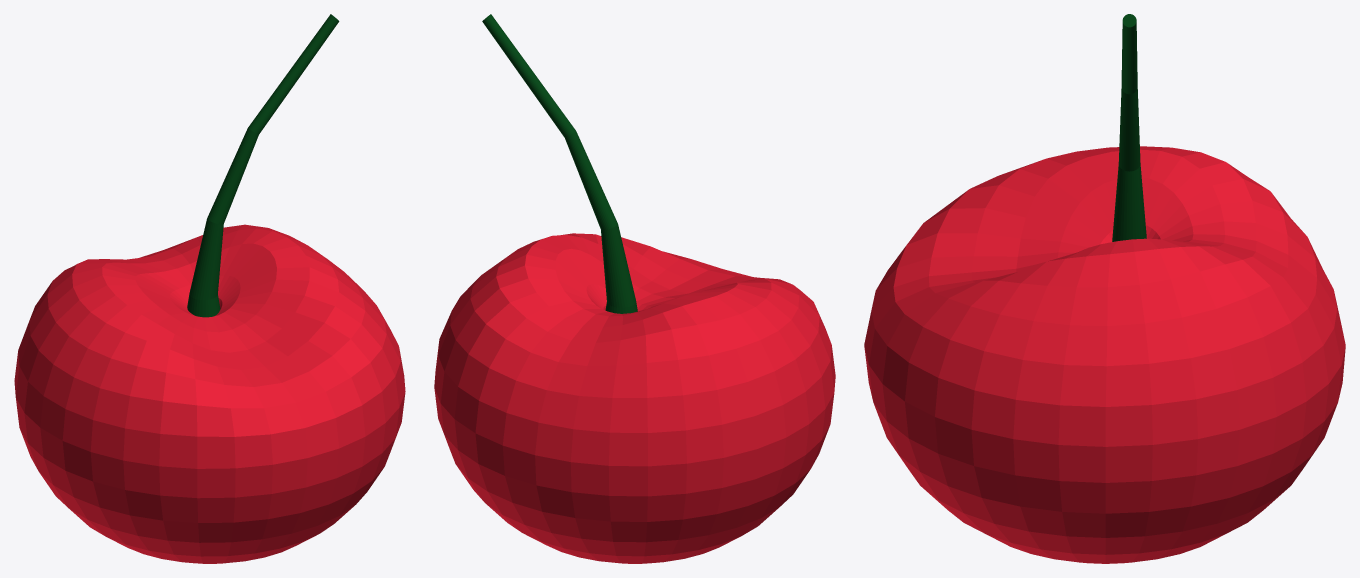
The picture shows the model from 3 angles, left to right: view 1: azimuth 30°, elevation 25°; view 2: azimuth 150°, elevation 25°; view 3: azimuth 270°, elevation 25°; orthographic projection. The views are drawn at different scales.
Visible parts, largest first — view 1: Sphere, Cylinder; view 2: Sphere, Cylinder; view 3: Sphere, Cylinder.
Part boxes in pixels (bbox=[...]): Sphere: bbox=[14, 224, 405, 563]; Cylinder: bbox=[187, 14, 339, 317]; Sphere: bbox=[434, 233, 835, 563]; Cylinder: bbox=[482, 14, 637, 313]; Sphere: bbox=[864, 146, 1345, 563]; Cylinder: bbox=[1112, 14, 1146, 241].
Size of the model in its own units: 20 by 27.62 by 19.93.
